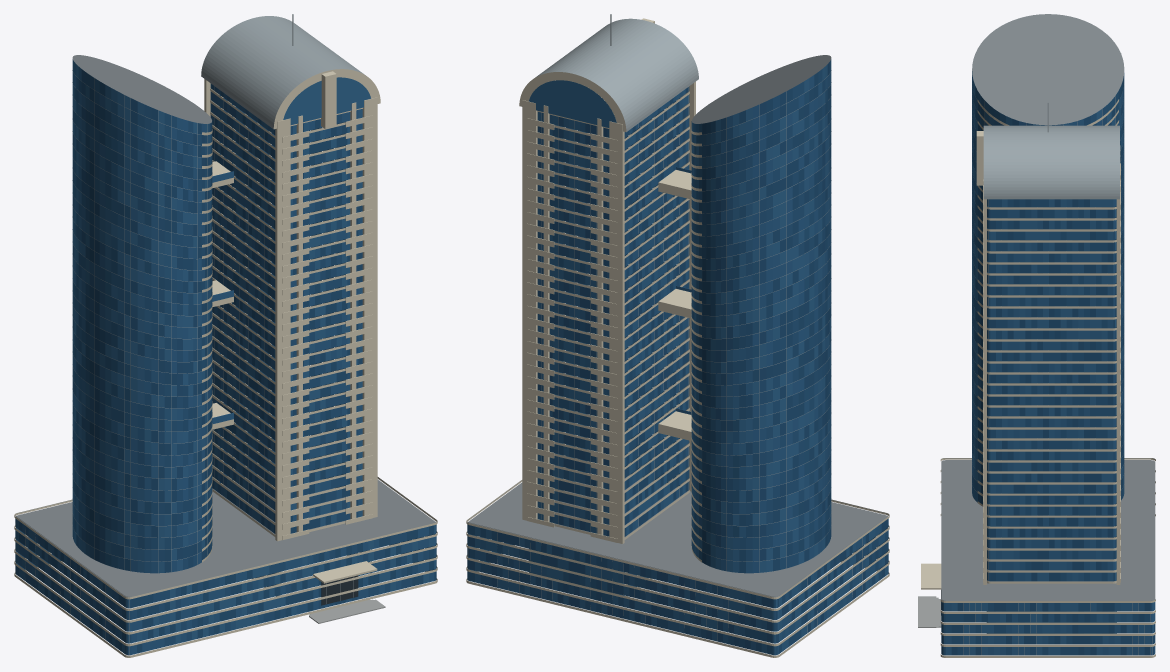
The model's file is ktz-r2-draco.glb.
3 renders of one model, left to right at view 1: azimuth 30°, elevation 25°; view 2: azimuth 150°, elevation 25°; view 3: azimuth 270°, elevation 25°, orthographic. The views are drawn at different scales.
Visible parts, largest first — view 1: KTZ stone, KTZ glass3, KTZ glass2, KTZ glass0, KTZ glass1, KTZ frame, KTZ roof, KTZ paving, KTZ recess; view 2: KTZ stone, KTZ glass2, KTZ glass0, KTZ glass3, KTZ glass1, KTZ frame, KTZ roof; view 3: KTZ roof, KTZ stone, KTZ glass0, KTZ glass2, KTZ glass1, KTZ glass3, KTZ frame, KTZ paving.
Boxes of the visible parts, left/top/right/bottom form: KTZ stone: left=14, top=69, right=437, bottom=657; KTZ glass3: left=15, top=59, right=436, bottom=654; KTZ glass2: left=15, top=64, right=435, bottom=653; KTZ glass0: left=16, top=60, right=435, bottom=649; KTZ glass1: left=15, top=67, right=436, bottom=655; KTZ frame: left=15, top=14, right=436, bottom=654; KTZ roof: left=16, top=55, right=436, bottom=597; KTZ paving: left=309, top=599, right=385, bottom=623; KTZ recess: left=274, top=486, right=358, bottom=605; KTZ stone: left=466, top=18, right=889, bottom=657; KTZ glass2: left=467, top=59, right=888, bottom=655; KTZ glass0: left=468, top=69, right=888, bottom=655; KTZ glass3: left=467, top=62, right=888, bottom=649; KTZ glass1: left=467, top=60, right=888, bottom=654; KTZ frame: left=467, top=14, right=888, bottom=641; KTZ roof: left=467, top=55, right=887, bottom=597; KTZ roof: left=941, top=14, right=1155, bottom=600; KTZ stone: left=921, top=99, right=1155, bottom=657; KTZ glass0: left=941, top=75, right=1155, bottom=655; KTZ glass2: left=941, top=73, right=1155, bottom=655; KTZ glass1: left=941, top=71, right=1155, bottom=655; KTZ glass3: left=941, top=76, right=1154, bottom=655; KTZ frame: left=941, top=96, right=1154, bottom=654; KTZ paving: left=918, top=596, right=941, bottom=627.
Size of the model in its own units: 93.42 by 157 by 65.61.
